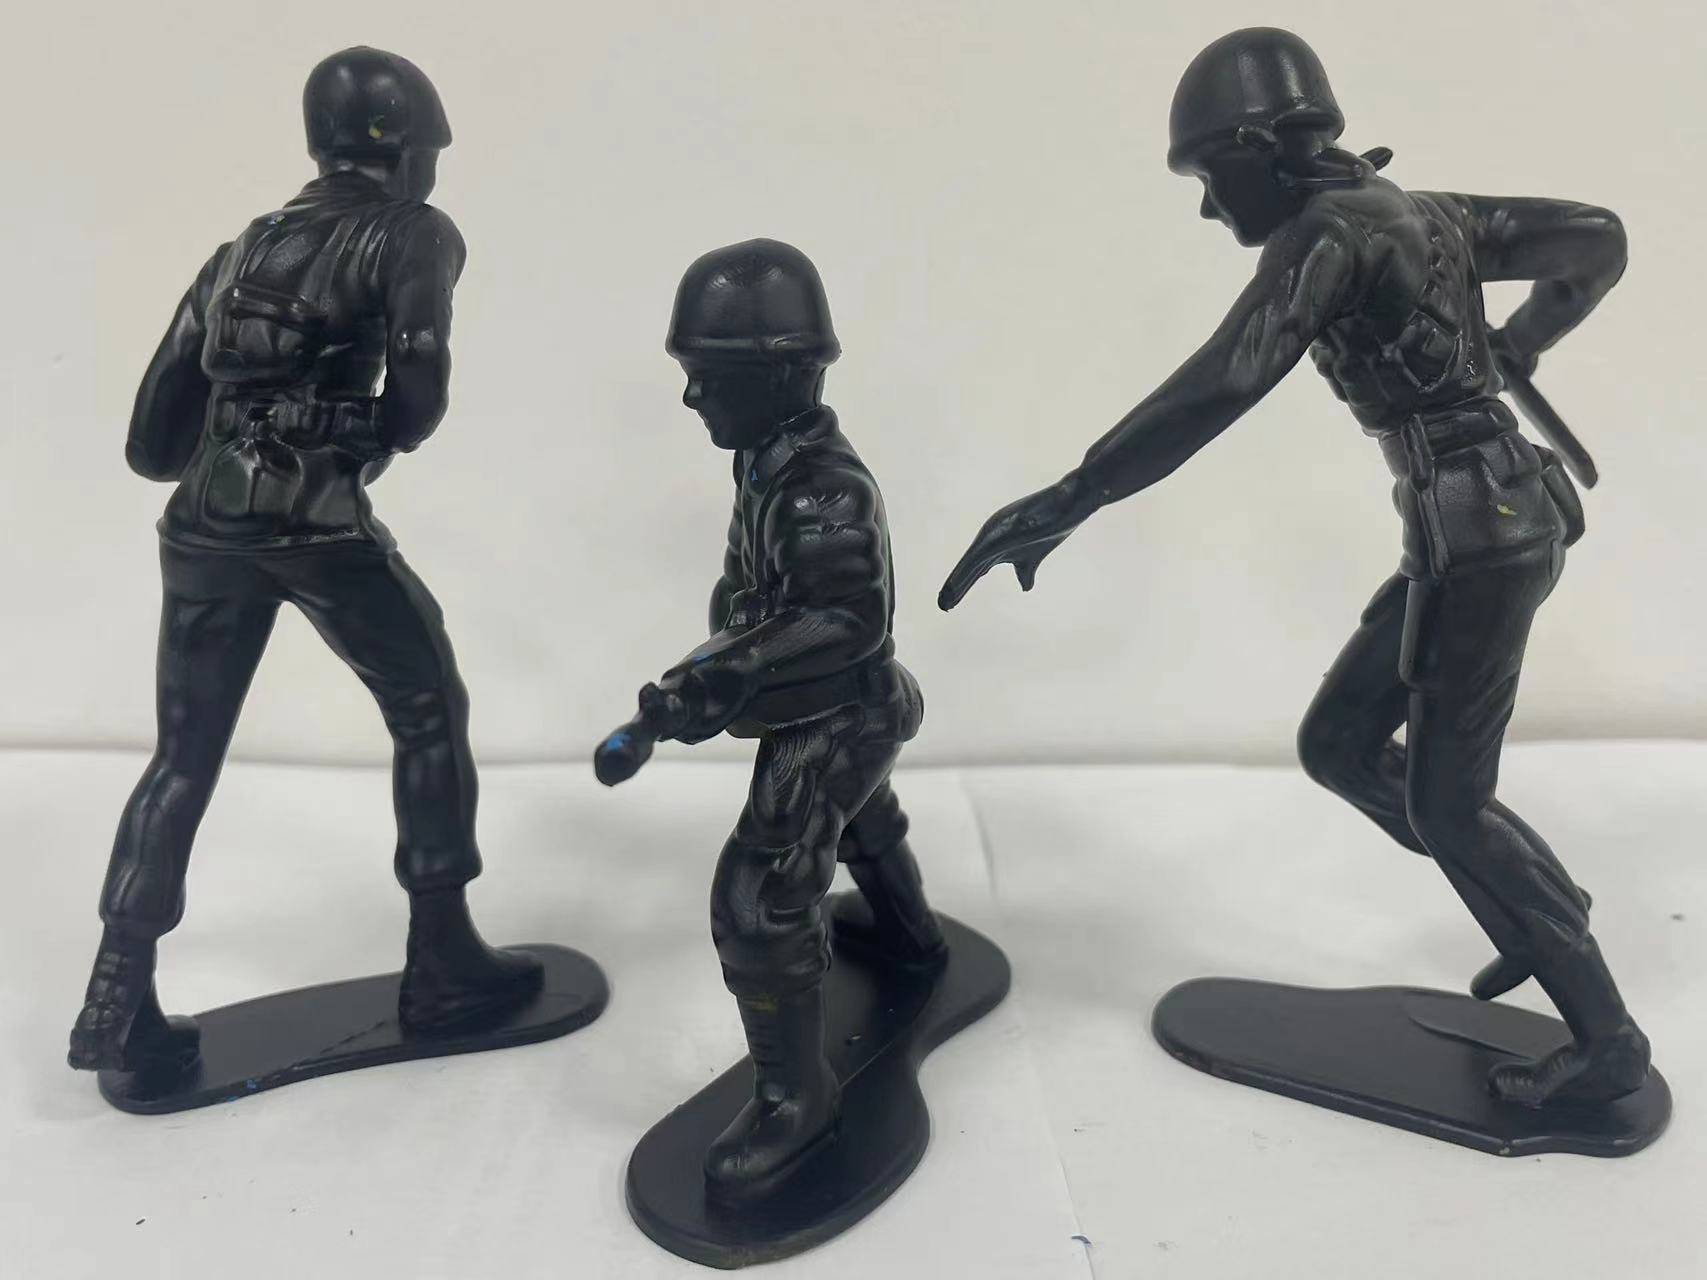black: (946, 20, 1698, 1168), (31, 31, 634, 1218), (603, 211, 1050, 1254)
